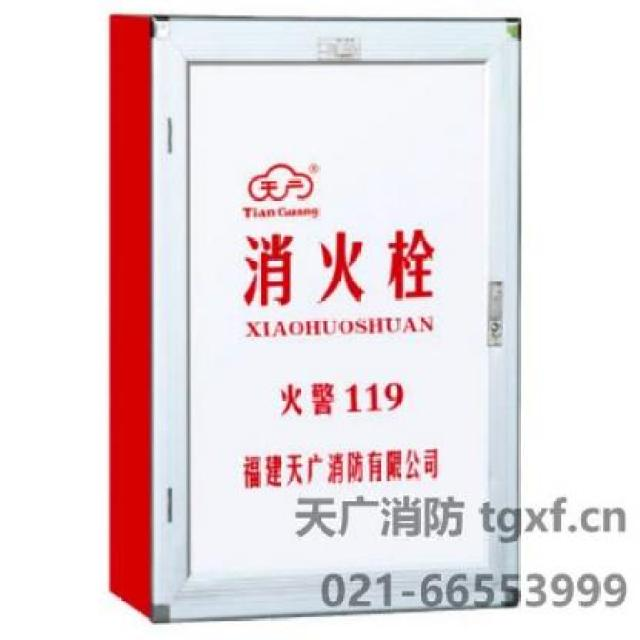firehydrant: (103, 6, 526, 629)
